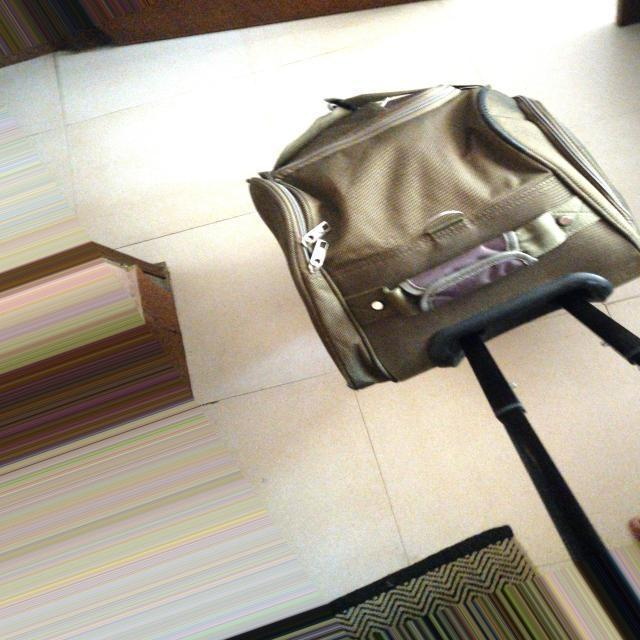Suitcase: (235, 75, 640, 640)
